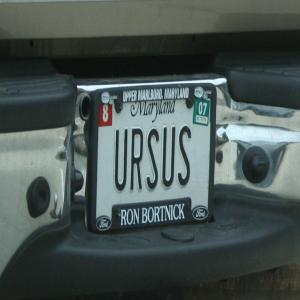Vehicle-registration-plate: (78, 80, 218, 232)
